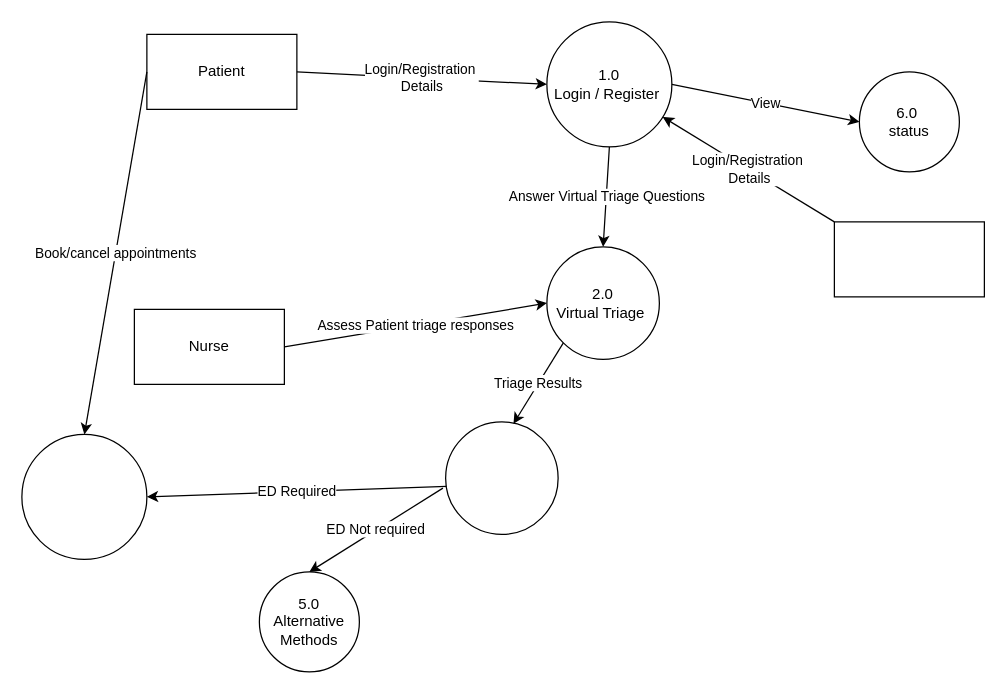
Some shapes in this 1006 by 694 pixel diagram are drawn without their labels. The shapes that lost their labels are listed below. From the top down, each one's box as (x1, y1, x2, y2) in pixels, then its label:
(833, 221, 984, 297): Staff
(21, 433, 147, 559): 4.0 Appointment
(444, 421, 558, 534): 3.0 ED required/not required
